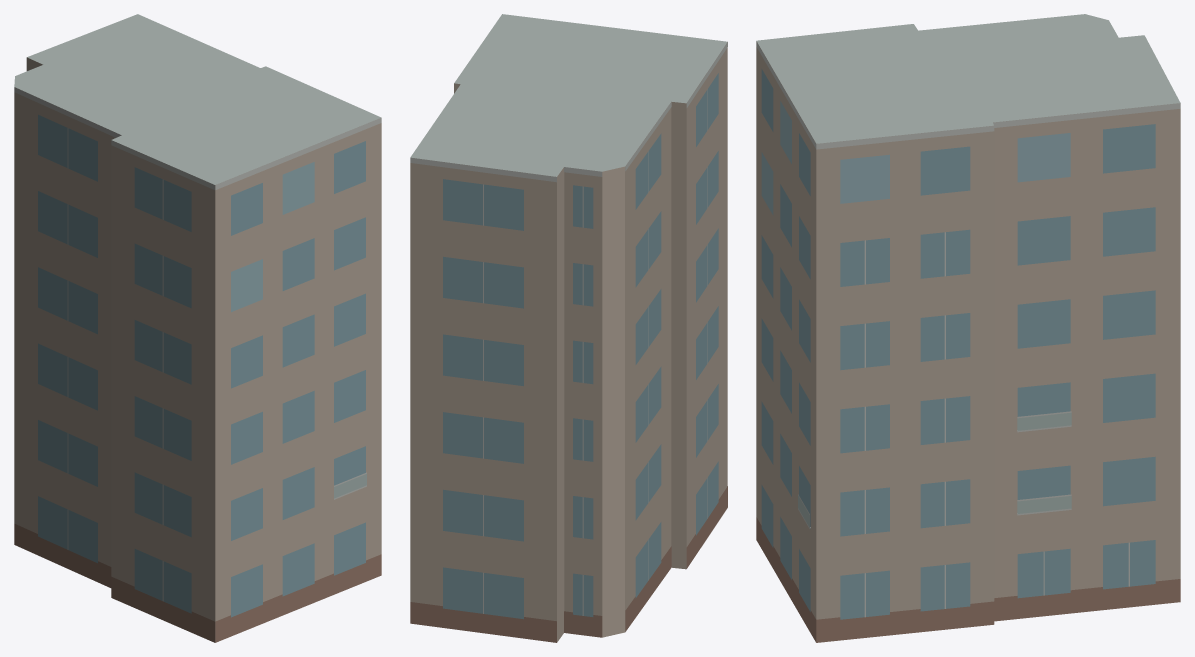
Rendered from survey-upis-32844701.glb.
3 views of the same model, side by side, from view 1: azimuth 30°, elevation 25°; view 2: azimuth 150°, elevation 25°; view 3: azimuth 270°, elevation 25° (orthographic). The views are drawn at different scales.
Parts seen in each view (by area): view 1: survey-upis-32844701.tmp; view 2: survey-upis-32844701.tmp; view 3: survey-upis-32844701.tmp.
Boxes of the visible parts, left/top/right/bottom form: survey-upis-32844701.tmp: left=14, top=14, right=381, bottom=642; survey-upis-32844701.tmp: left=410, top=14, right=727, bottom=642; survey-upis-32844701.tmp: left=756, top=14, right=1180, bottom=642.
Size of the model in its own units: 11.92 by 21.34 by 16.46.
